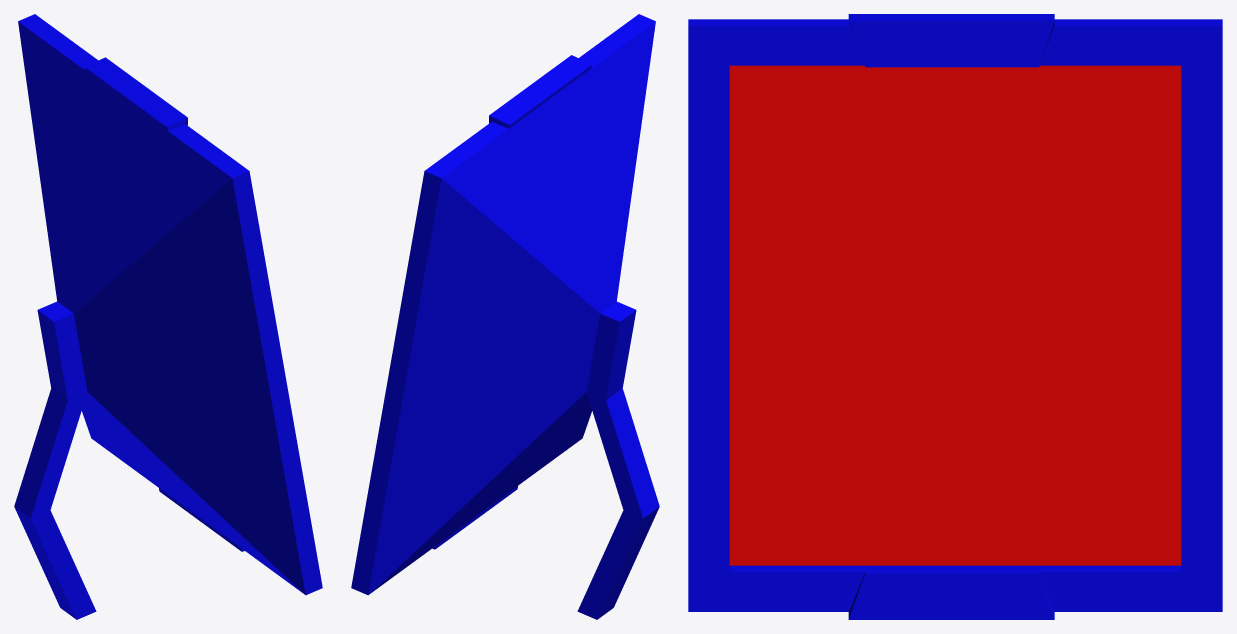
Rendered from LasersMirrors.fbx.
3 renders of one model, left to right at view 1: azimuth 30°, elevation 25°; view 2: azimuth 150°, elevation 25°; view 3: azimuth 270°, elevation 25°, orthographic. The views are drawn at different scales.
Parts seen in each view (by area): view 1: Box002; view 2: Box002; view 3: Box002.
Boxes of the visible parts, x1,y1,x2,y2 form: Box002: (14,14,322,619); Box002: (351,14,659,619); Box002: (688,14,1222,619).
Size of the model in its own units: 13.48 by 33.17 by 25.34.
